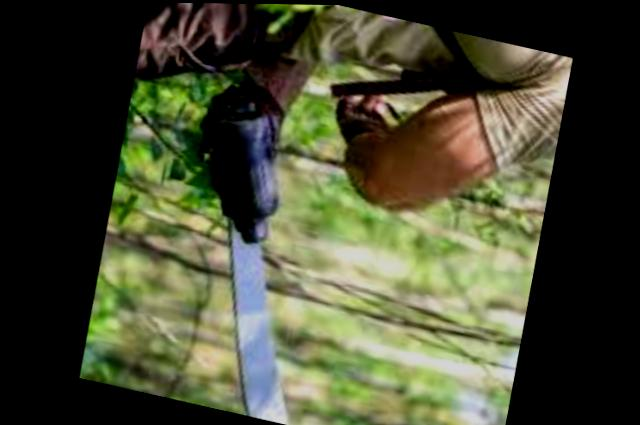long knife: (140, 81, 395, 425)
